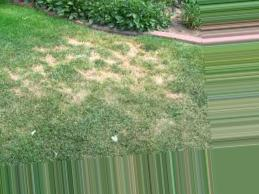patch: (66, 46, 102, 81), (119, 49, 153, 79), (22, 72, 45, 87)
